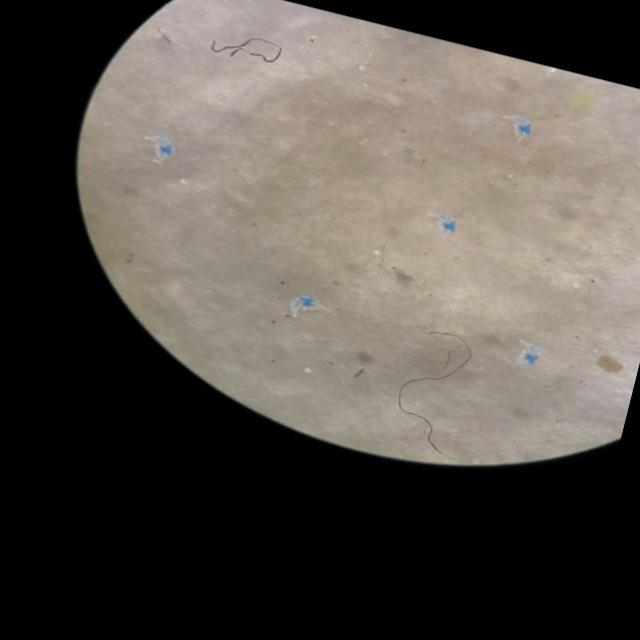fiber: (397, 332, 470, 453), (209, 37, 282, 63)
film: (289, 295, 314, 316), (148, 136, 170, 158), (513, 117, 532, 133), (523, 343, 539, 361), (435, 214, 456, 223)
fragment: (596, 354, 622, 374), (567, 90, 593, 108)
pellet: (357, 64, 365, 71), (179, 178, 186, 184), (573, 282, 579, 288), (303, 368, 309, 373), (372, 249, 377, 254)
